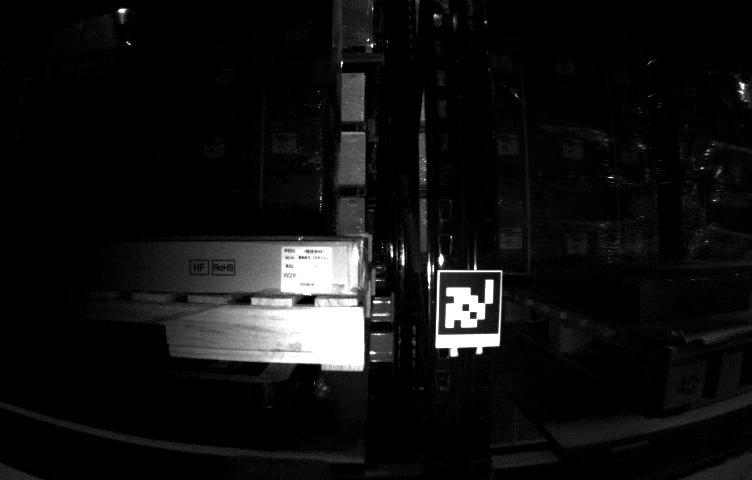True Barcode: (281, 246, 334, 297)
